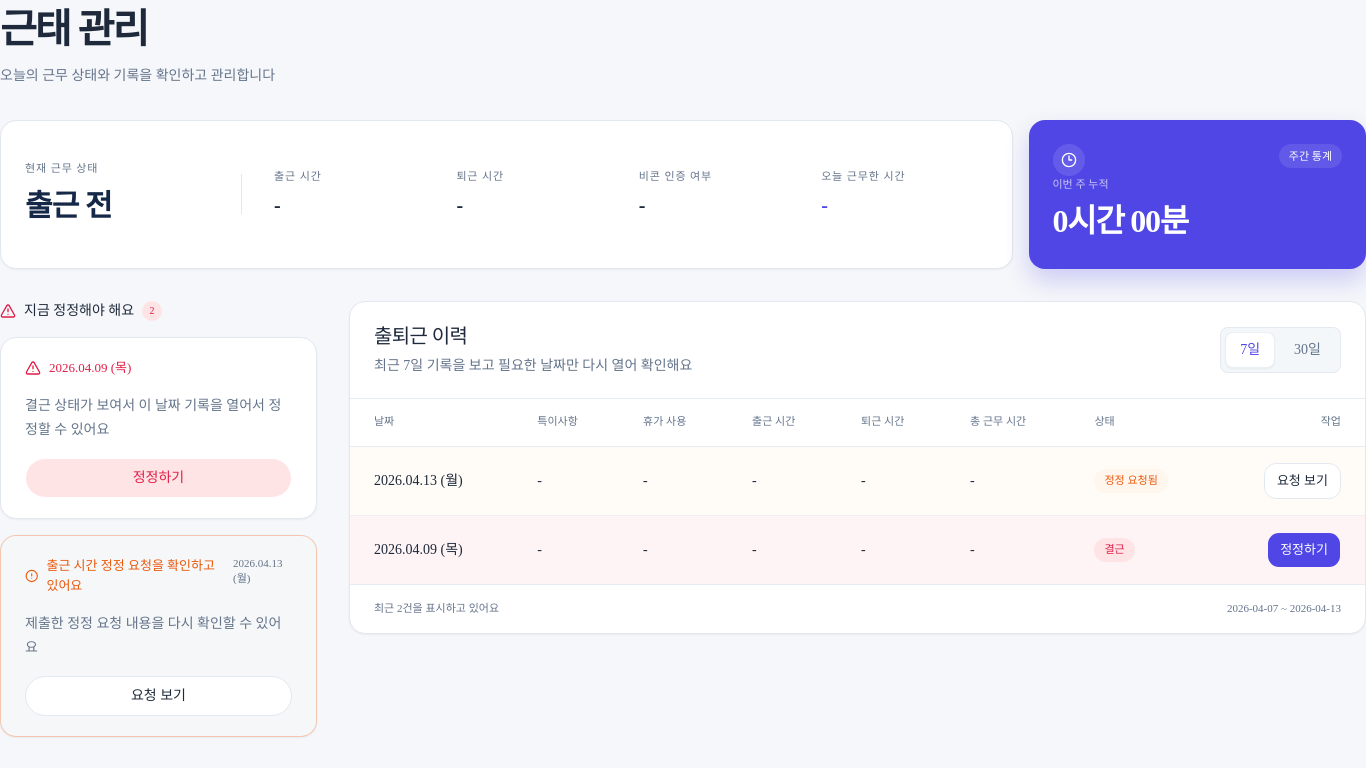
Test: AttendancePageClient › opens pending request status, allows edit, and refreshes current session after save
This screenshot has width=1366, height=768.
Click the button "요청 보기" below "제출한 정정 요청 내용을 다시 확인할 수 있어요" at (158, 696), box [25,676,292,716]
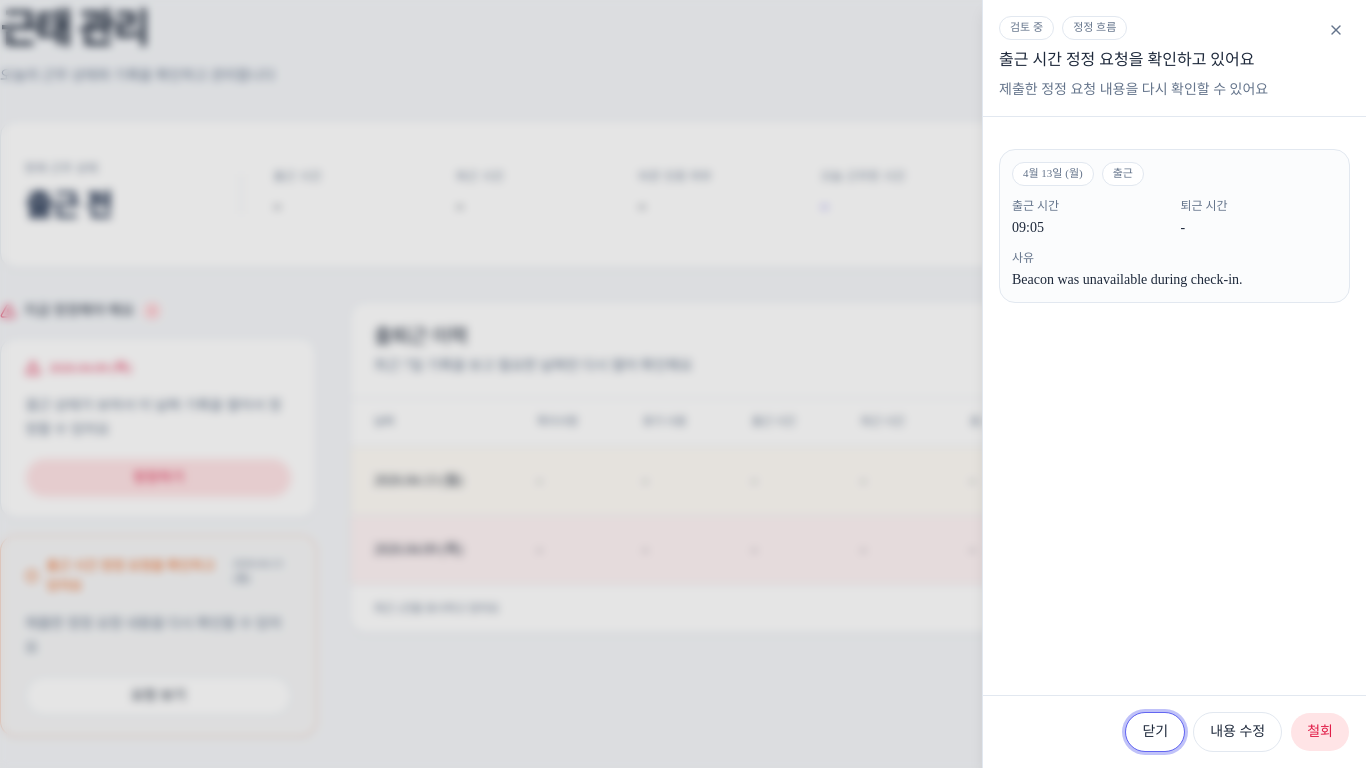
Expected: the button "내용 수정" is shown
Expected: the button "철회" is shown, [1290,712,1350,752]
Click the button "내용 수정" at (1238, 732), box [1193,712,1282,752]
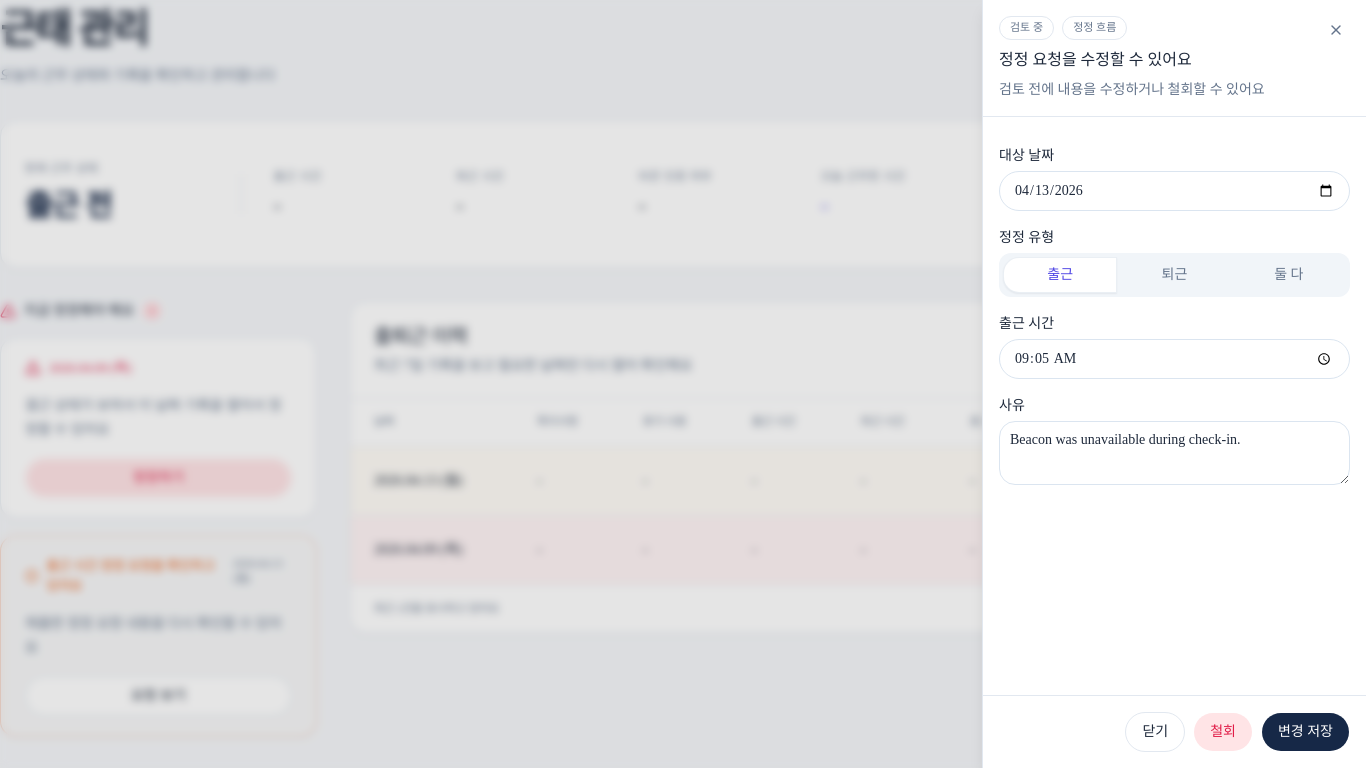
Replace the text in the text box labelled "사유" with "출근 시도 실패 내용을 조금 더 자세히 남깁니다." at (1174, 453), box [999,421,1350,485]
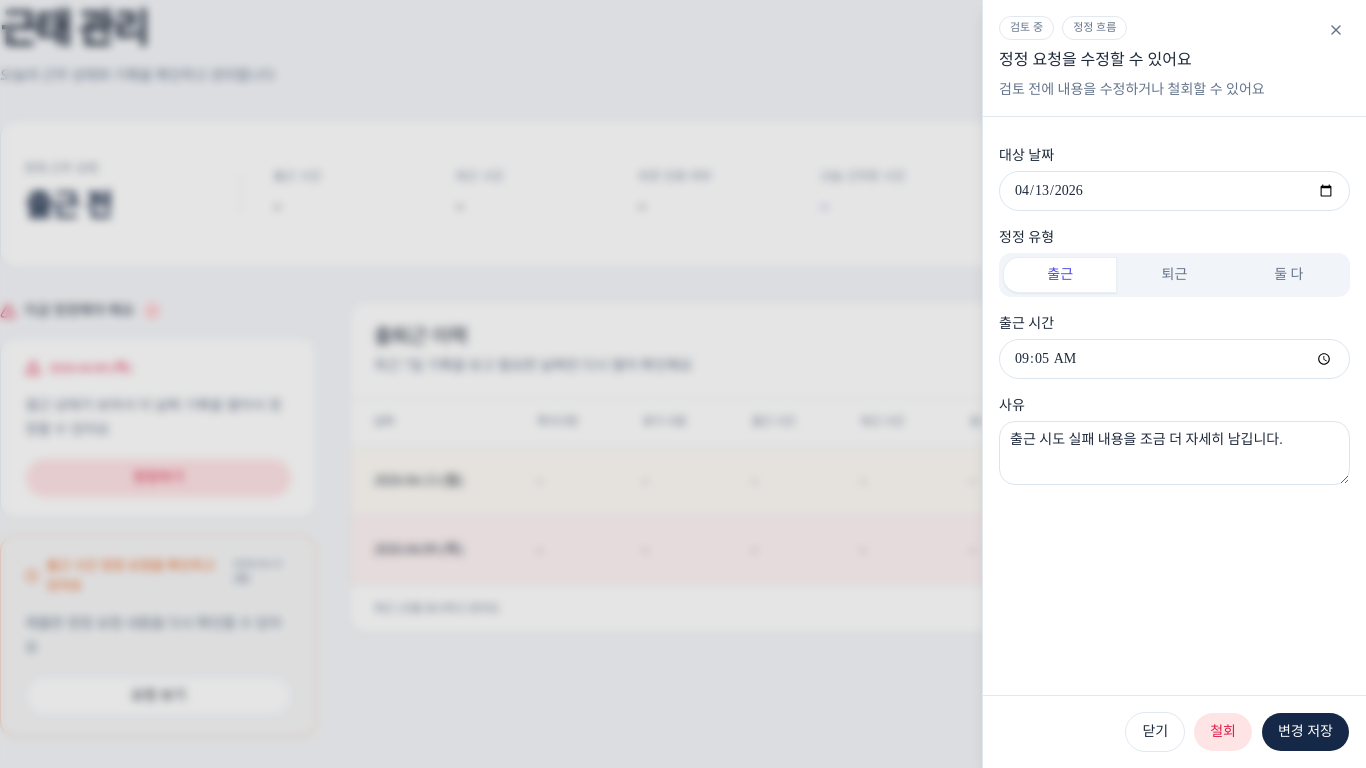
Click the button "변경 저장" at (1306, 732), box [1261,712,1350,752]
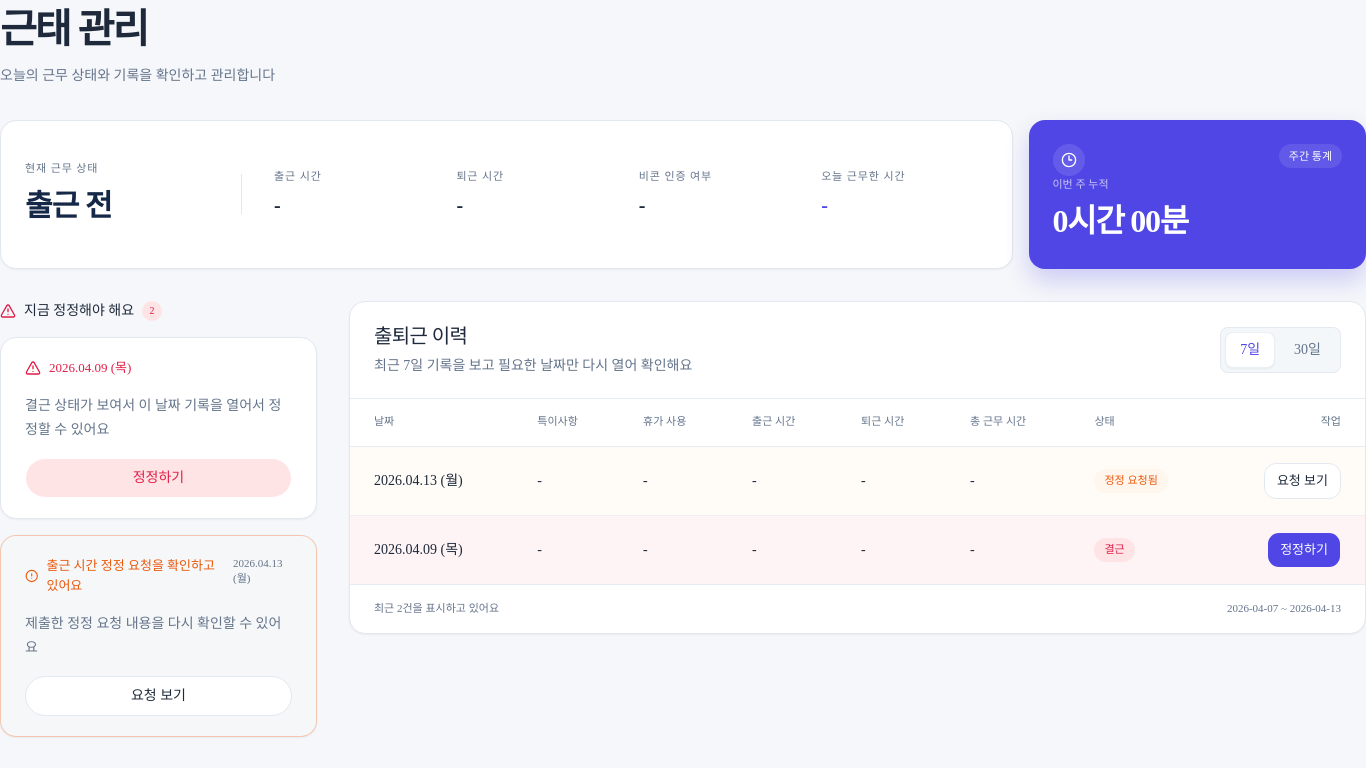
Click the button "요청 보기" below "제출한 정정 요청 내용을 다시 확인할 수 있어요" at (158, 696), box [25,676,292,716]
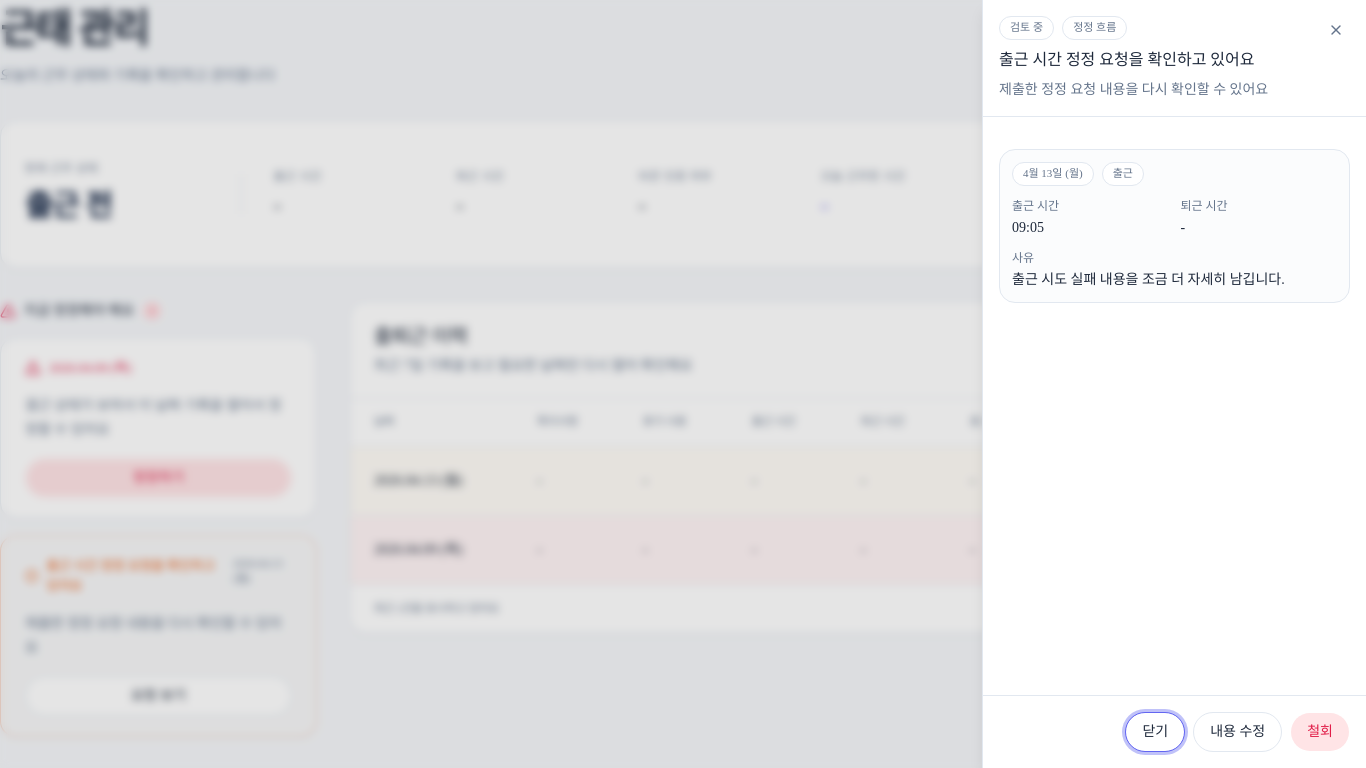
Expected: the text "출근 시도 실패 내용을 조금 더 자세히 남깁니다." is shown, [1012,272,1285,287]
